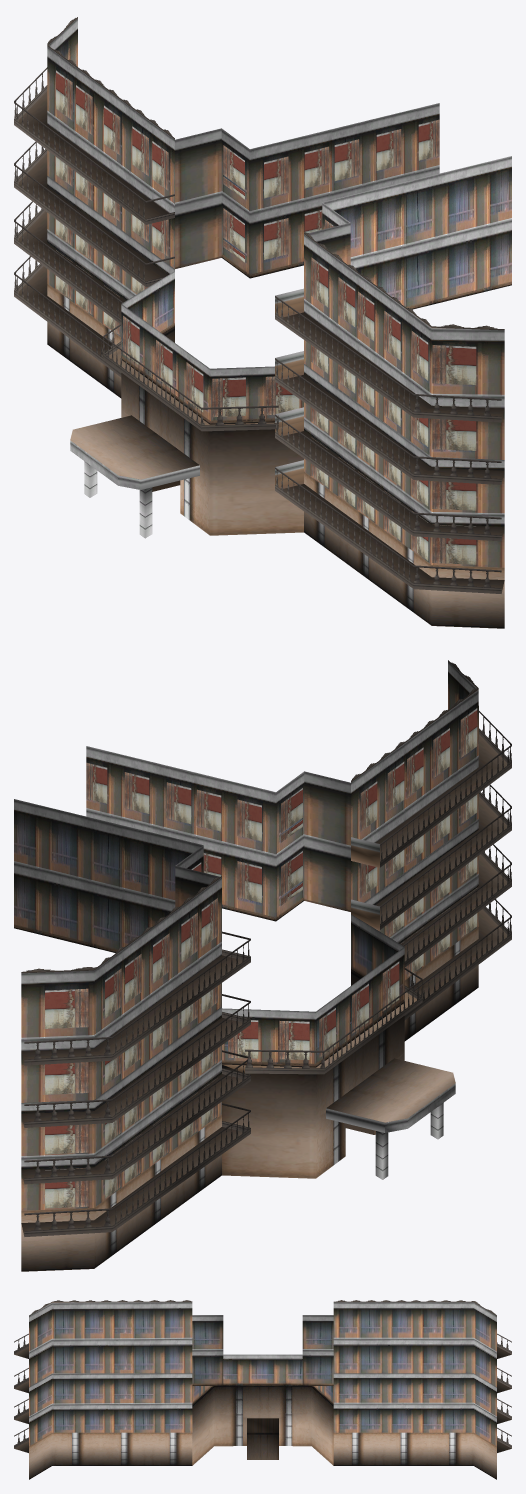
Rendered from bnlbuildingstart.fbx.
3 views of the same model, one above another, from view 1: azimuth 30°, elevation 25°; view 2: azimuth 150°, elevation 25°; view 3: azimuth 270°, elevation 25° (orthographic). The views are drawn at different scales.
Parts seen in each view (by area): view 1: Mesh_0031.rip; view 2: Mesh_0031.rip; view 3: Mesh_0031.rip.
Boxes of the visible parts, x1,y1,x2,y2 form: Mesh_0031.rip: [14, 17, 511, 628]; Mesh_0031.rip: [14, 660, 511, 1271]; Mesh_0031.rip: [14, 1300, 511, 1479].
Bounding box in the file's own units: 2476 × 1877 × 5101.
